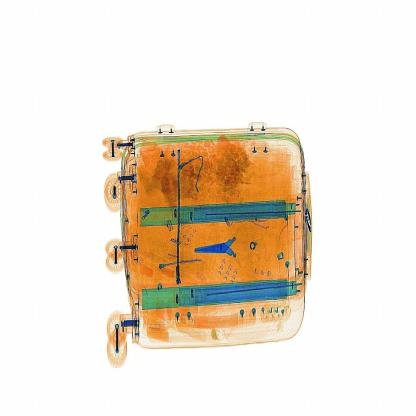gun: (182, 233, 252, 267)
